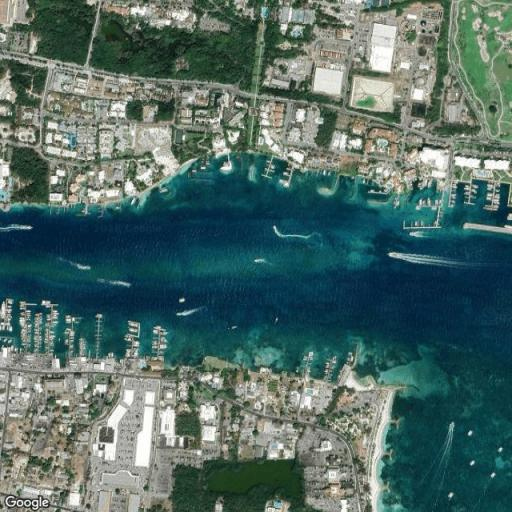ship: (107, 274, 134, 290), (442, 415, 461, 435), (6, 224, 35, 234), (71, 262, 96, 272), (176, 311, 202, 318), (127, 194, 139, 208), (408, 231, 427, 239), (253, 256, 267, 266), (485, 471, 502, 479), (224, 325, 243, 332), (448, 488, 457, 502), (0, 300, 6, 321), (390, 250, 400, 262), (466, 459, 478, 469), (273, 315, 281, 328), (494, 447, 509, 453), (273, 224, 280, 236), (469, 426, 475, 440), (127, 322, 140, 327), (151, 329, 160, 336), (177, 299, 188, 304), (426, 197, 432, 206), (128, 328, 140, 332), (151, 341, 159, 346), (160, 344, 169, 348), (160, 339, 168, 343), (162, 331, 168, 336), (420, 196, 422, 207), (424, 196, 424, 207)
